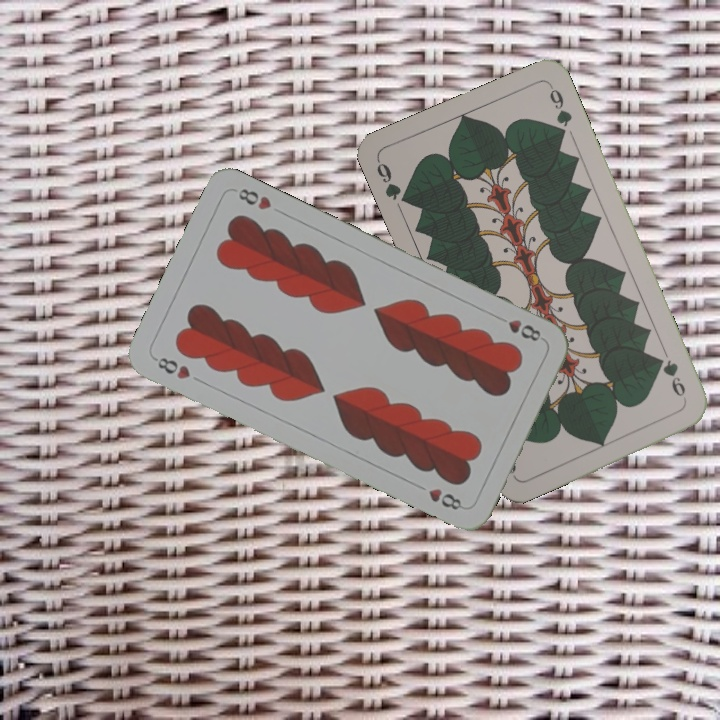G9: (372, 156, 413, 208), (653, 353, 690, 405)
H8: (491, 311, 544, 344), (149, 353, 193, 382)
